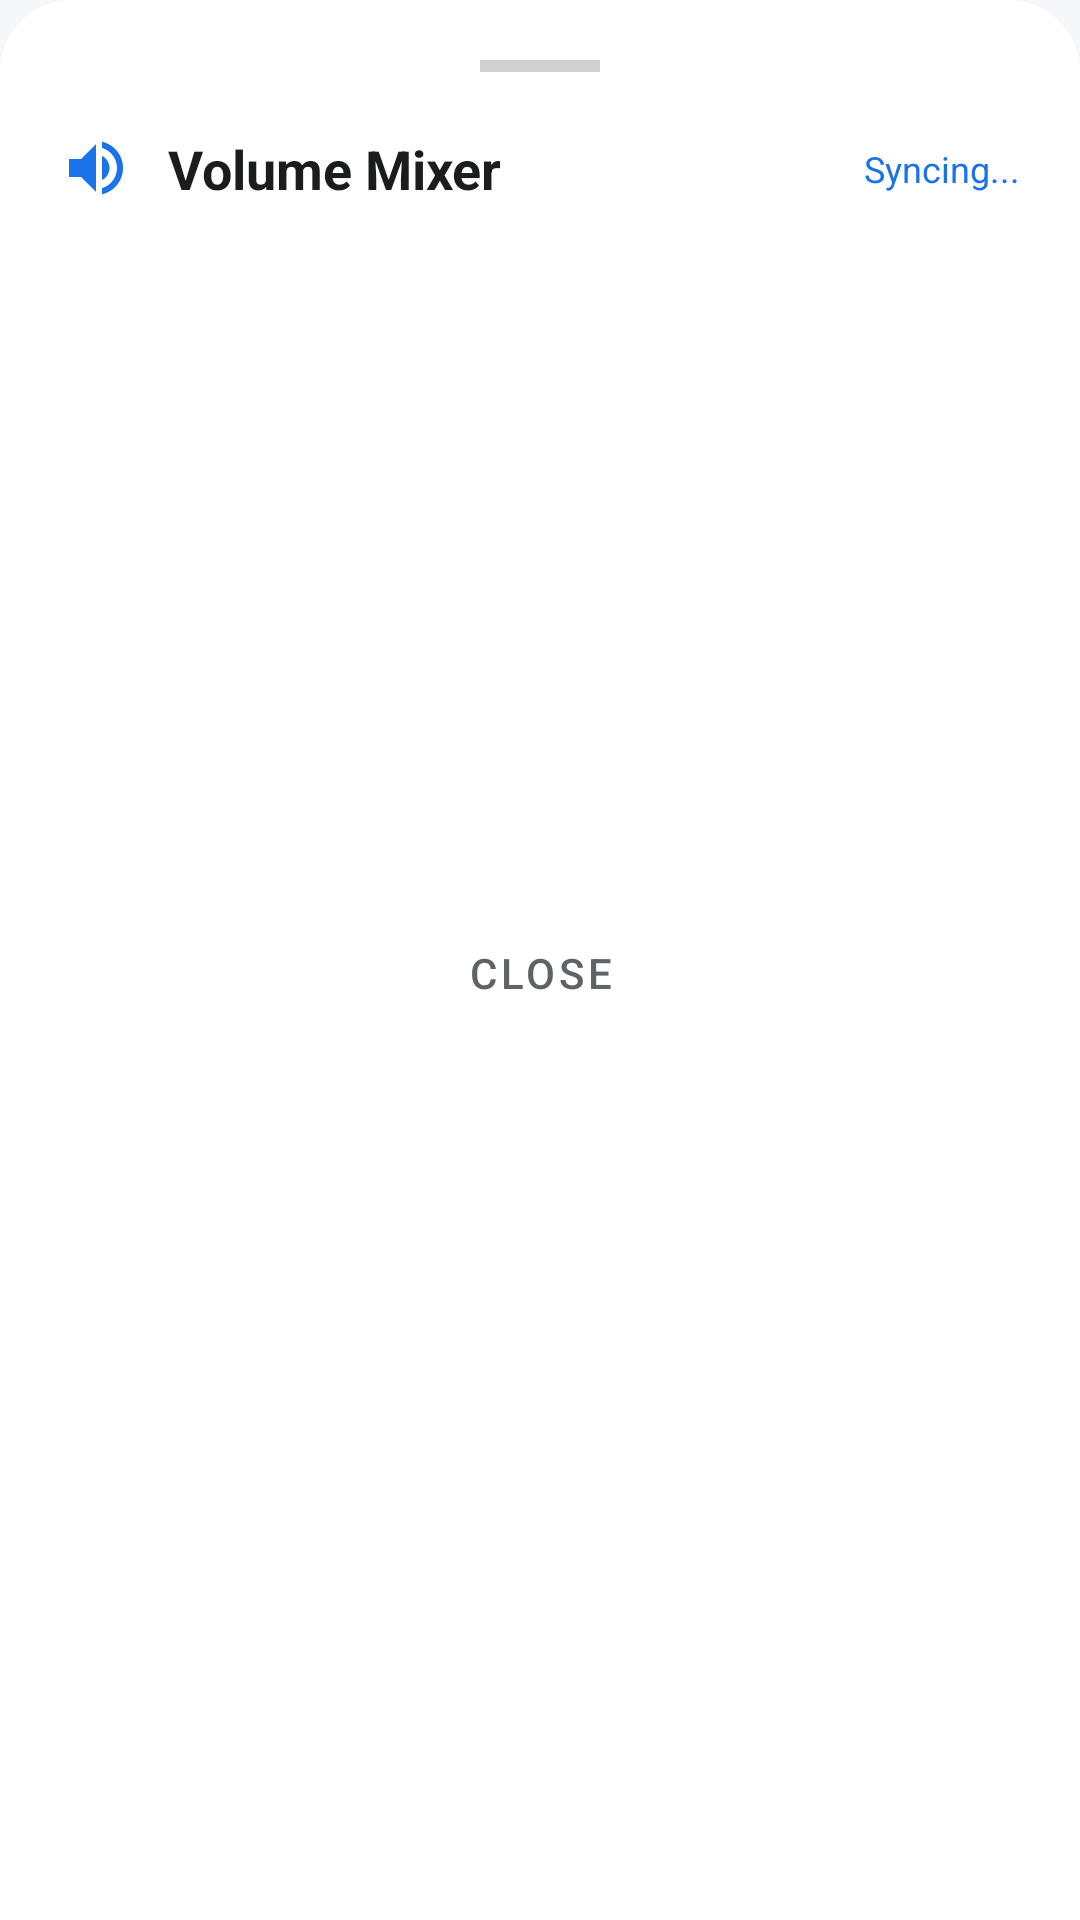

Locate icon controls on the screen. Image size 1080px x 1920px, boxes as rect(x1, y1, x2, y2).
volume up: rect(69, 141, 123, 195)
